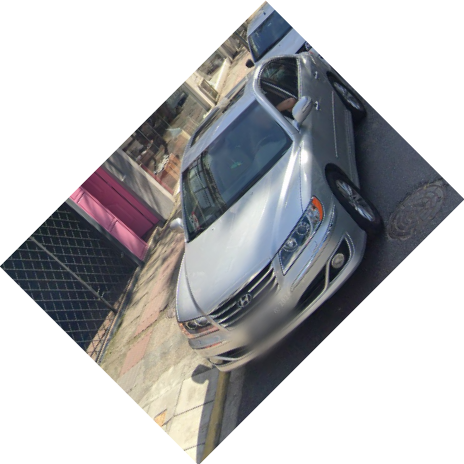car: (178, 51, 383, 381)
